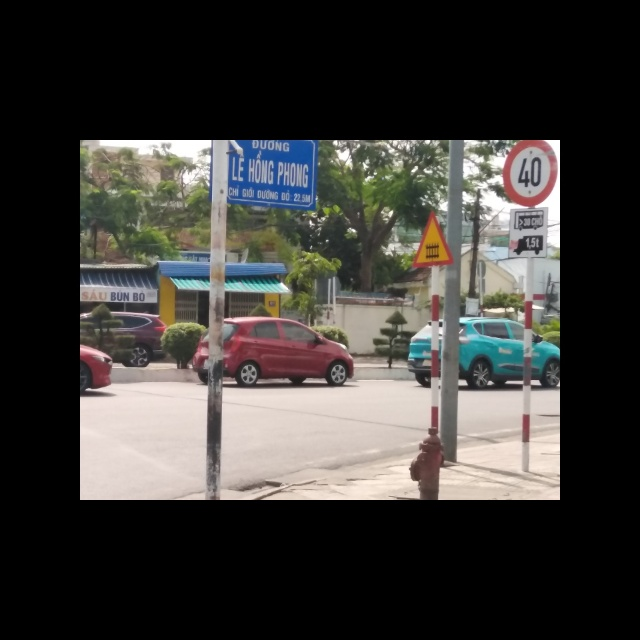Giao nhau với đường sắt có rào chắn: (412, 209, 454, 269)
Tốc độ tối đa cho phép 40km/h: (503, 140, 558, 209)
